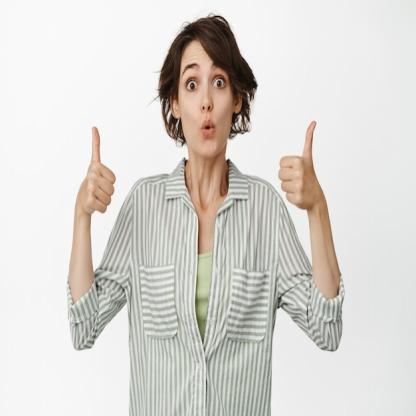thumb_up: (275, 118, 320, 210), (76, 121, 116, 216)
